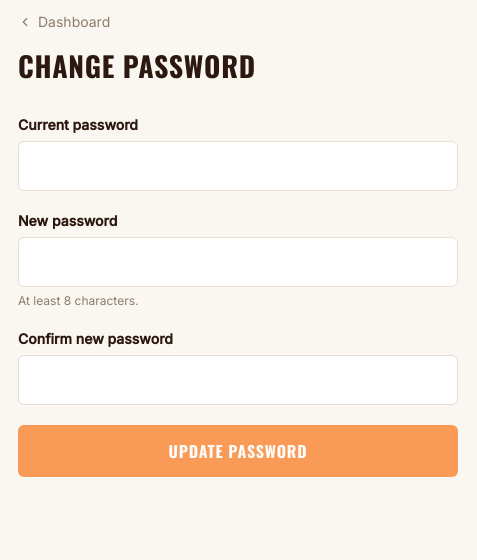
Test: ChangePasswordPage › shows error when new password is too short
In the password field labelled "Current password": (238, 166) [18, 141, 458, 191], type "oldpass"
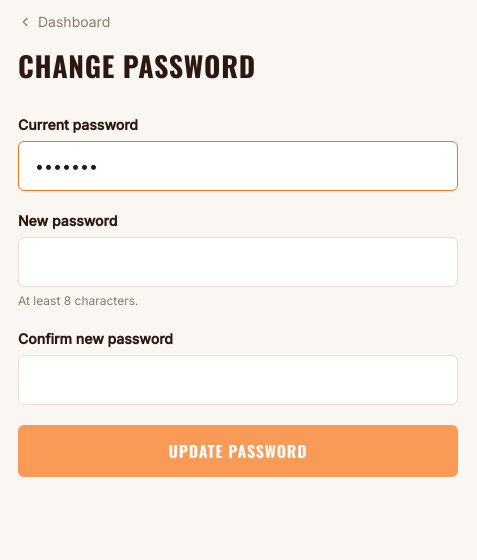
In the password field labelled "New password": (238, 262) [18, 237, 458, 287], type "short"
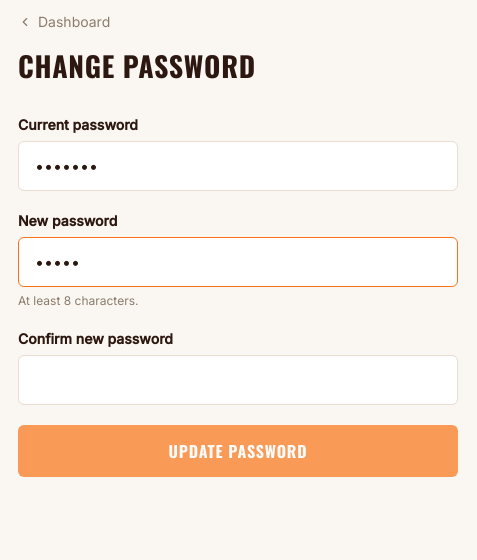
In the password field labelled "Confirm new password": (238, 380) [18, 355, 458, 405], type "short"
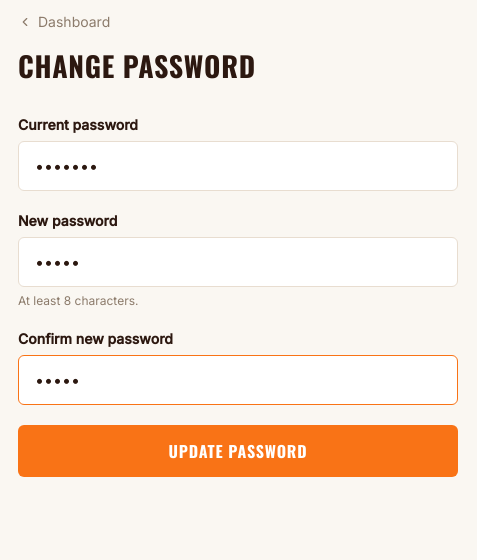
Click the button "Update password": (238, 451) [18, 425, 458, 477]
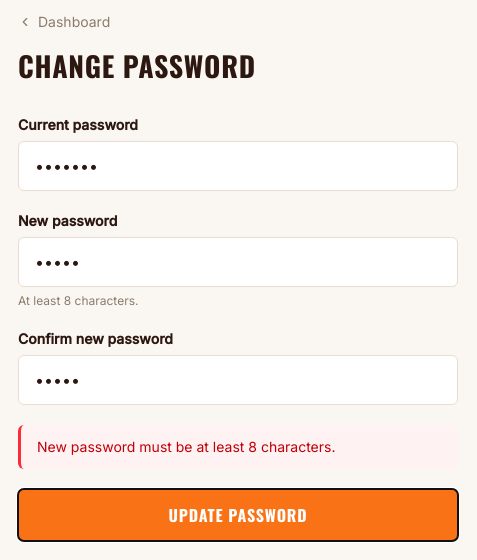
expect the text "New password must be at least 8 characters." is shown: met, box [37, 438, 336, 455]
